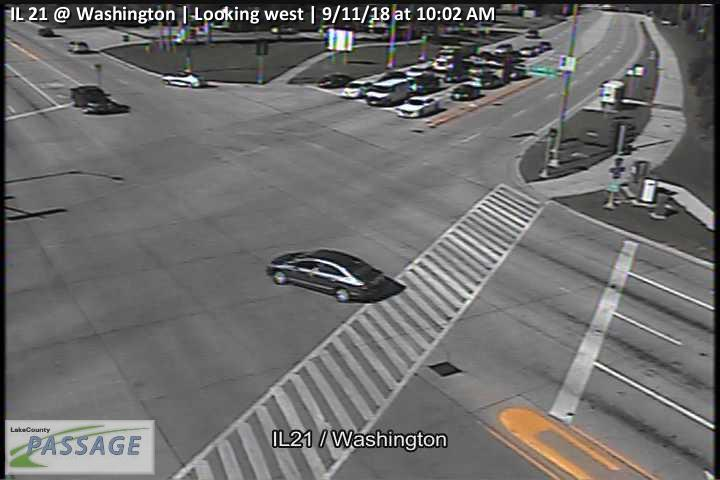SUV: (365, 78, 409, 108)
Sedan: (265, 247, 393, 304), (70, 86, 116, 114), (393, 94, 438, 119), (162, 70, 207, 88), (340, 79, 373, 99), (450, 84, 481, 99)
